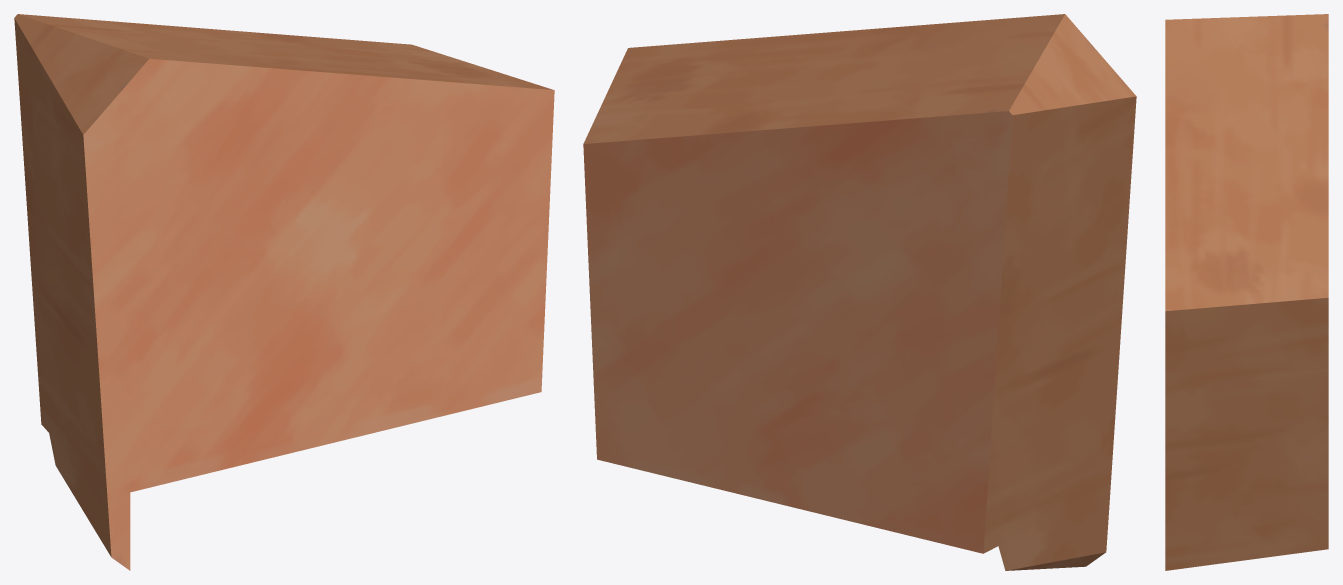
The model's file is wall_door_s02.fbx.
The picture shows the model from 3 angles, left to right: view 1: azimuth 30°, elevation 25°; view 2: azimuth 150°, elevation 25°; view 3: azimuth 270°, elevation 25°; orthographic projection. The views are drawn at different scales.
Visible parts, largest first — view 1: wall_door_s02; view 2: wall_door_s02; view 3: wall_door_s02.
Boxes of the visible parts, x1=… form: wall_door_s02: x1=14, y1=14, x2=554, y2=570; wall_door_s02: x1=583, y1=14, x2=1136, y2=570; wall_door_s02: x1=1165, y1=14, x2=1328, y2=570.
Bounding box in the file's own units: 2.96 × 3.04 × 1.
